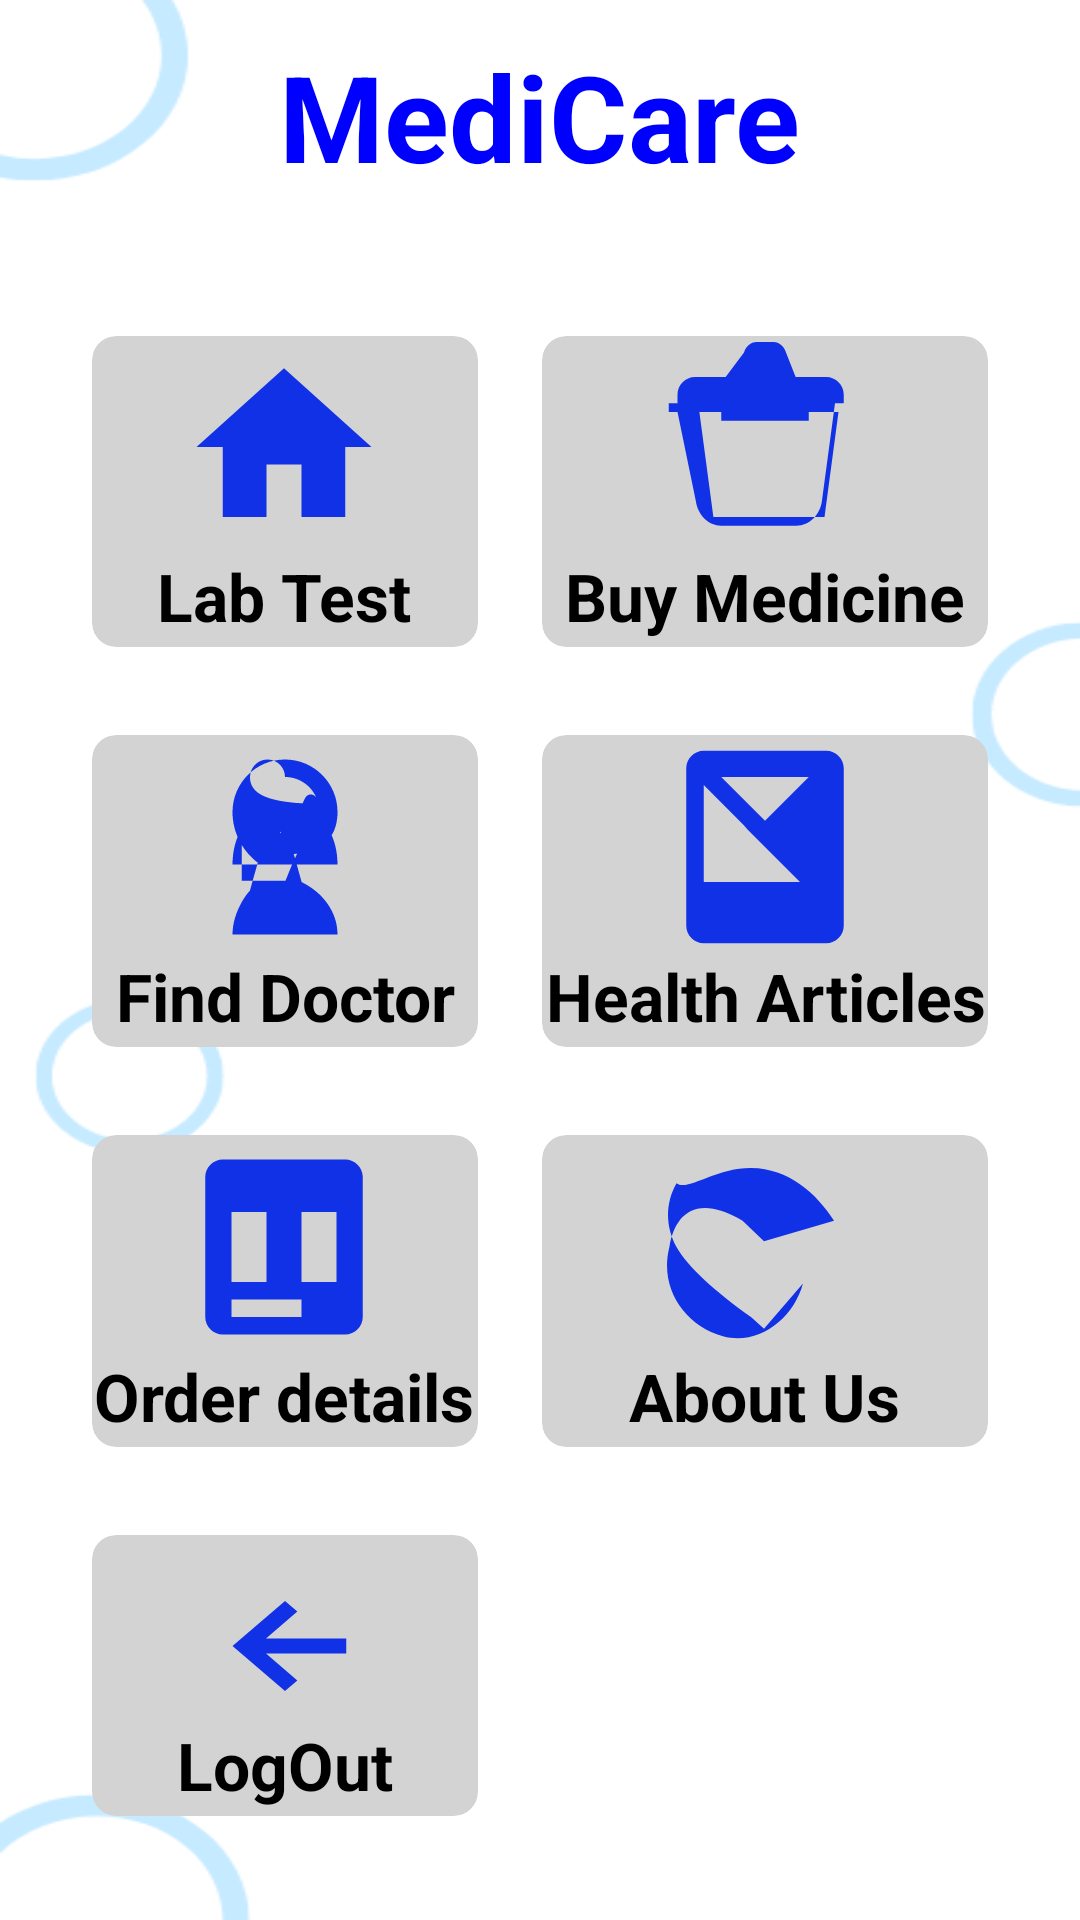

Where icons sit on this 1080×1920 app screen, as (x1, y1, x2, y2):
home: (197, 368, 371, 517)
